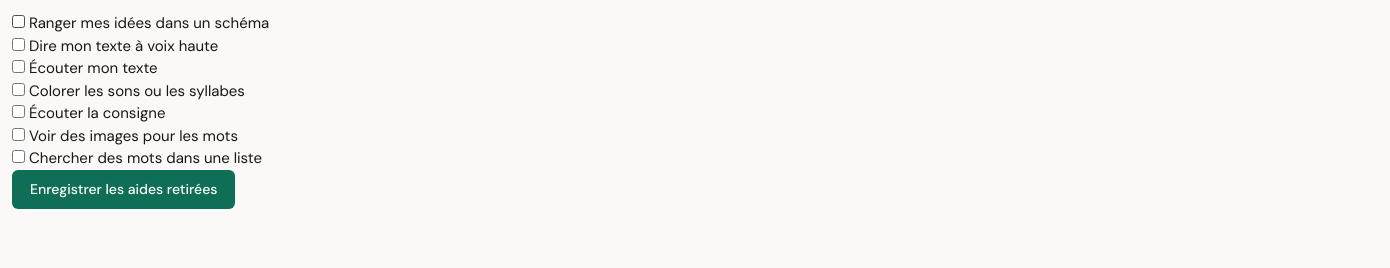
Test: AidesRetireesEditeur › un retrait sans raison empêche l’enregistrement
Click the checkbox named "retirer : dire mon texte à voix haute" at {"x": 18, "y": 44}, box [12,38,25,50]
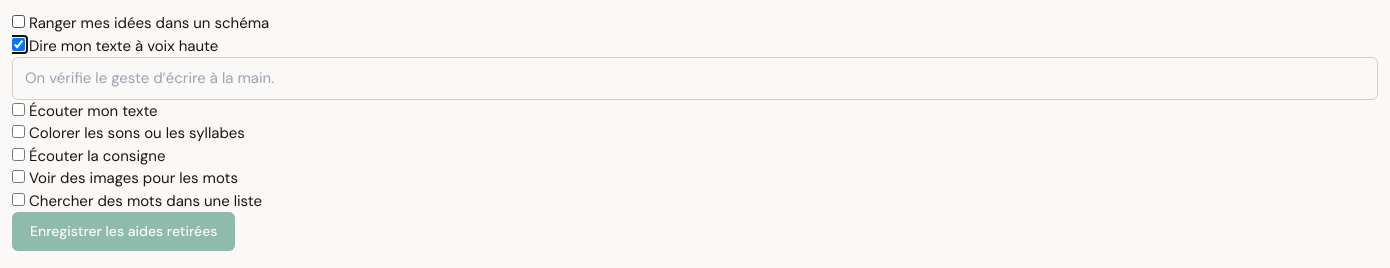
Expected: the button "Enregistrer les aides retirées" is disabled, [12,212,236,251]
